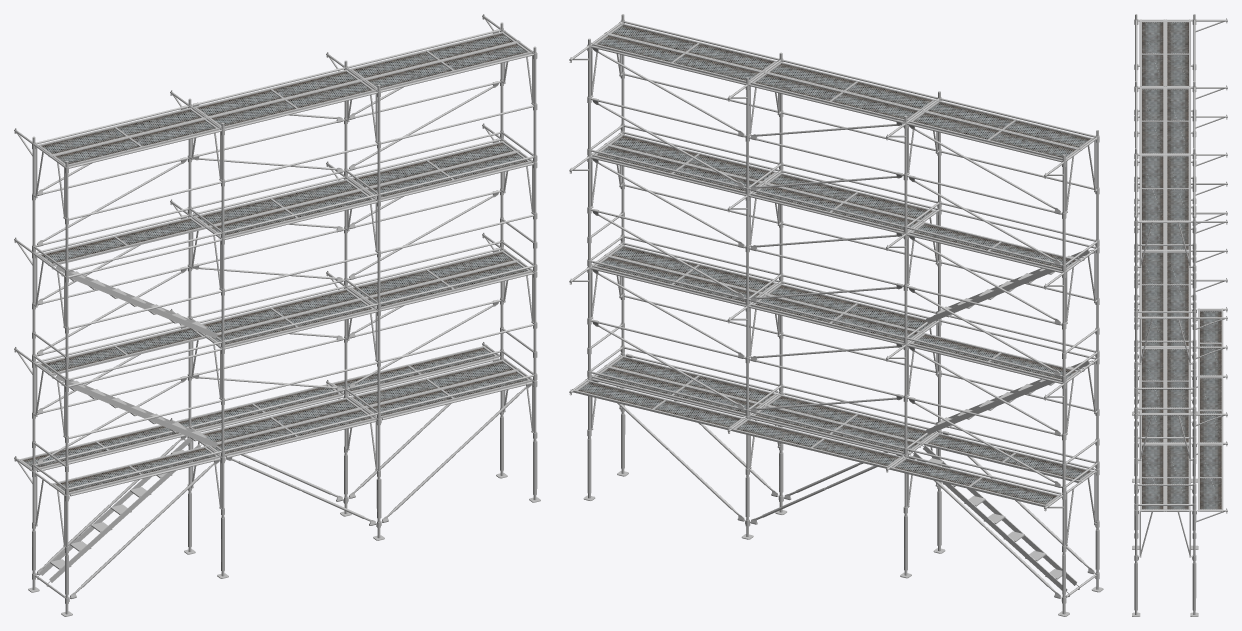
The model's file is Scaffoldinga.fbx.
The picture shows the model from 3 angles, left to right: view 1: azimuth 30°, elevation 25°; view 2: azimuth 150°, elevation 25°; view 3: azimuth 270°, elevation 25°; orthographic projection. The views are drawn at different scales.
Parts seen in each view (by area): view 1: LODGroup_1_MainMesh_1_SubMesh_1, LODGroup_1_MainMesh_1_SubMesh_2, LODGroup_1_MainMesh_3_SubMesh_1, LODGroup_1_MainMesh_2_SubMesh_1, LODGroup_1_MainMesh_4_SubMesh_1; view 2: LODGroup_1_MainMesh_1_SubMesh_1, LODGroup_1_MainMesh_1_SubMesh_2, LODGroup_1_MainMesh_3_SubMesh_1, LODGroup_1_MainMesh_2_SubMesh_1, LODGroup_1_MainMesh_4_SubMesh_1; view 3: LODGroup_1_MainMesh_1_SubMesh_2, LODGroup_1_MainMesh_1_SubMesh_1, LODGroup_1_MainMesh_3_SubMesh_1, LODGroup_1_MainMesh_2_SubMesh_1, LODGroup_1_MainMesh_4_SubMesh_1.
Boxes of the visible parts, box(x1,y1,x2,y2) form: LODGroup_1_MainMesh_1_SubMesh_1: box(14, 14, 540, 616); LODGroup_1_MainMesh_1_SubMesh_2: box(23, 33, 527, 492); LODGroup_1_MainMesh_3_SubMesh_1: box(34, 165, 533, 380); LODGroup_1_MainMesh_2_SubMesh_1: box(34, 274, 533, 489); LODGroup_1_MainMesh_4_SubMesh_1: box(34, 55, 533, 271); LODGroup_1_MainMesh_1_SubMesh_1: box(569, 14, 1103, 616); LODGroup_1_MainMesh_1_SubMesh_2: box(578, 25, 1089, 504); LODGroup_1_MainMesh_3_SubMesh_1: box(591, 156, 1097, 375); LODGroup_1_MainMesh_2_SubMesh_1: box(591, 267, 1097, 486); LODGroup_1_MainMesh_4_SubMesh_1: box(591, 48, 1097, 265); LODGroup_1_MainMesh_1_SubMesh_2: box(1142, 22, 1221, 509); LODGroup_1_MainMesh_1_SubMesh_1: box(1132, 14, 1227, 616); LODGroup_1_MainMesh_3_SubMesh_1: box(1137, 134, 1192, 409); LODGroup_1_MainMesh_2_SubMesh_1: box(1137, 257, 1192, 505); LODGroup_1_MainMesh_4_SubMesh_1: box(1137, 21, 1192, 312).
Bounding box in the file's own units: 1374 × 1249 × 272.
